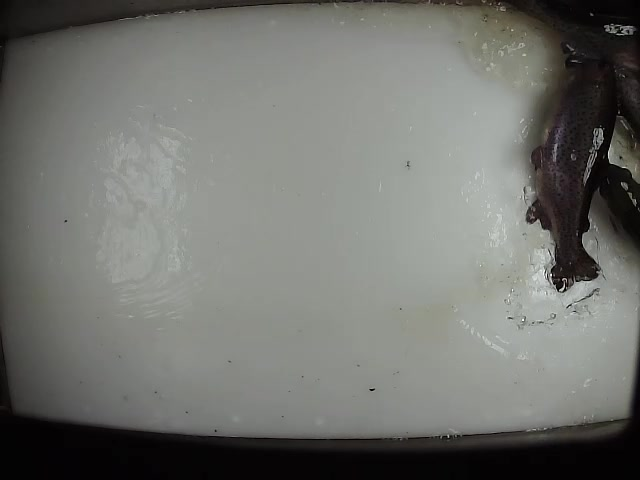fish: (522, 54, 618, 297)
